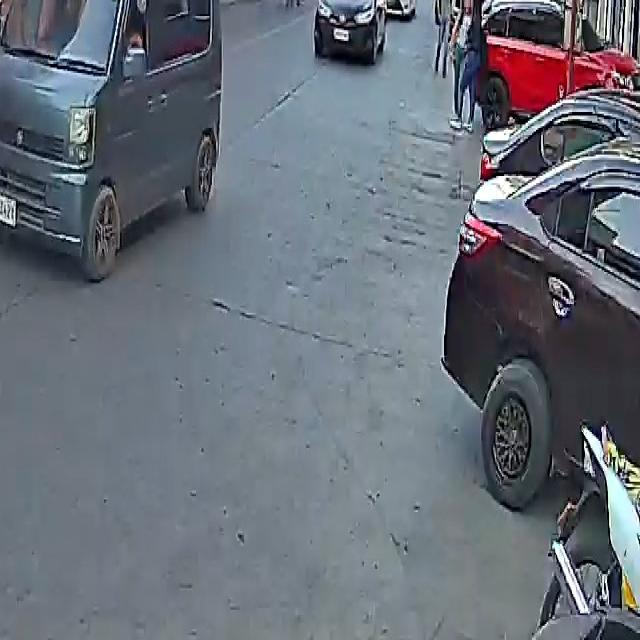car: (444, 72, 640, 527), (0, 0, 227, 284), (462, 0, 639, 128), (314, 0, 389, 62), (374, 0, 418, 16)
